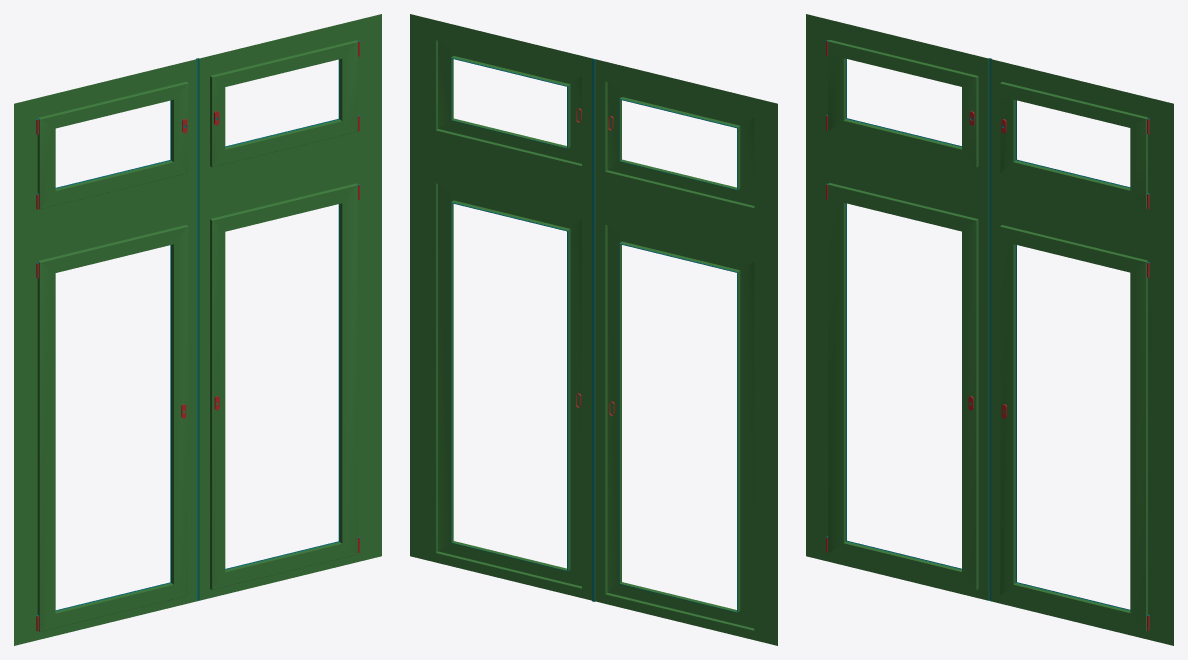
Rendered from SM_Window_07.fbx.
3 renders of one model, left to right at view 1: azimuth 30°, elevation 25°; view 2: azimuth 150°, elevation 25°; view 3: azimuth 330°, elevation 25°, orthographic.
Parts seen in each view (by area): view 1: SM_Window_07; view 2: SM_Window_07; view 3: SM_Window_07.
Boxes of the visible parts, <box> form: SM_Window_07: <box>14,14,381,645</box>; SM_Window_07: <box>410,14,777,645</box>; SM_Window_07: <box>806,14,1173,645</box>.
Size of the model in its own units: 216 by 304 by 3.85.
